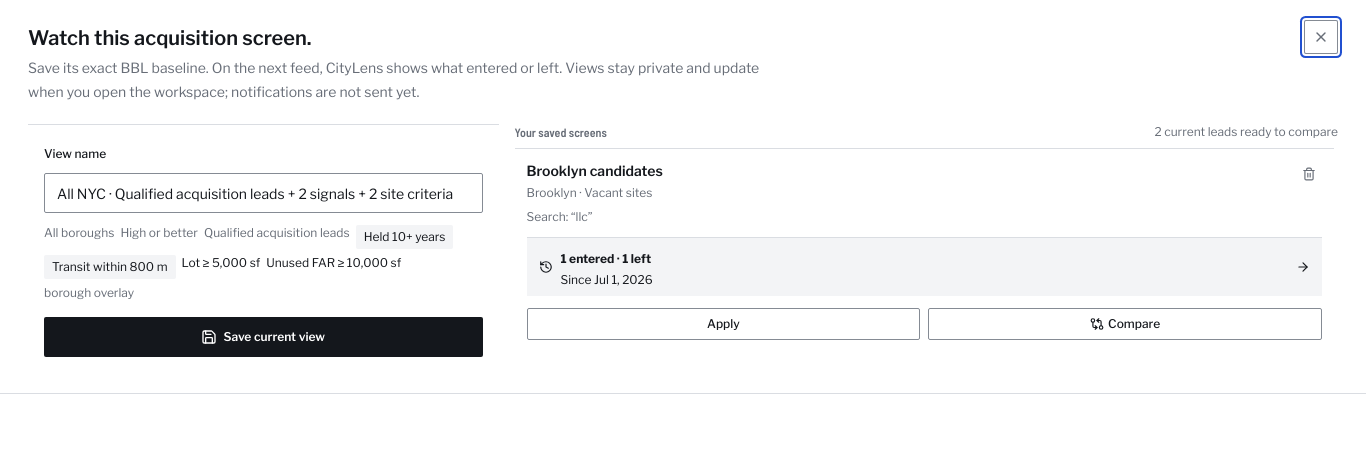
Test: ParcelSavedViewsPanel › reloads the canonical baseline when another session advanced it
What coordinates should you click on to do the following:
click the button "1 entered · 1 left Since Jul 1, 2026"
I would click on:
 (594, 258)
Its box is [526,238,1322,296].
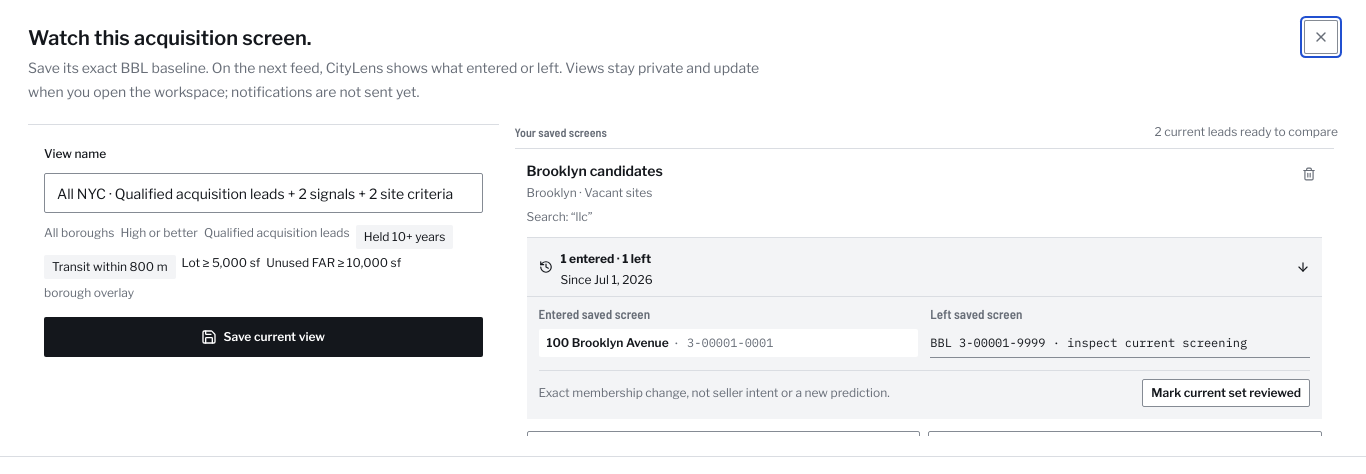
What coordinates should you click on to do the following:
click the button "Mark current set reviewed"
I would click on:
 (1226, 392)
Its box is [1142,378,1310,406].
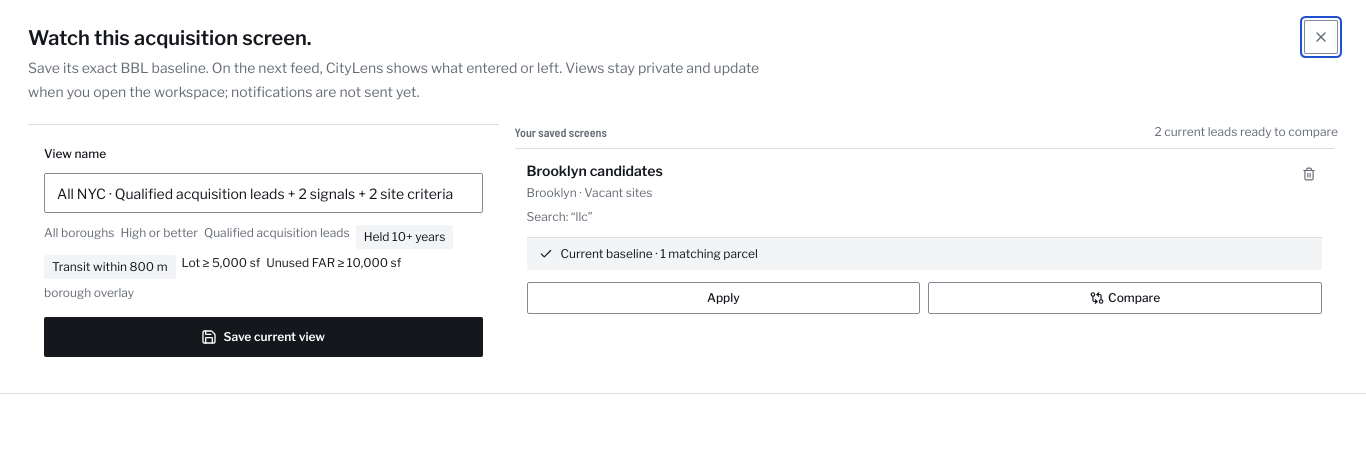
Now the text "Current baseline · 1 matching parcel" is shown, box [560,246,758,262]
